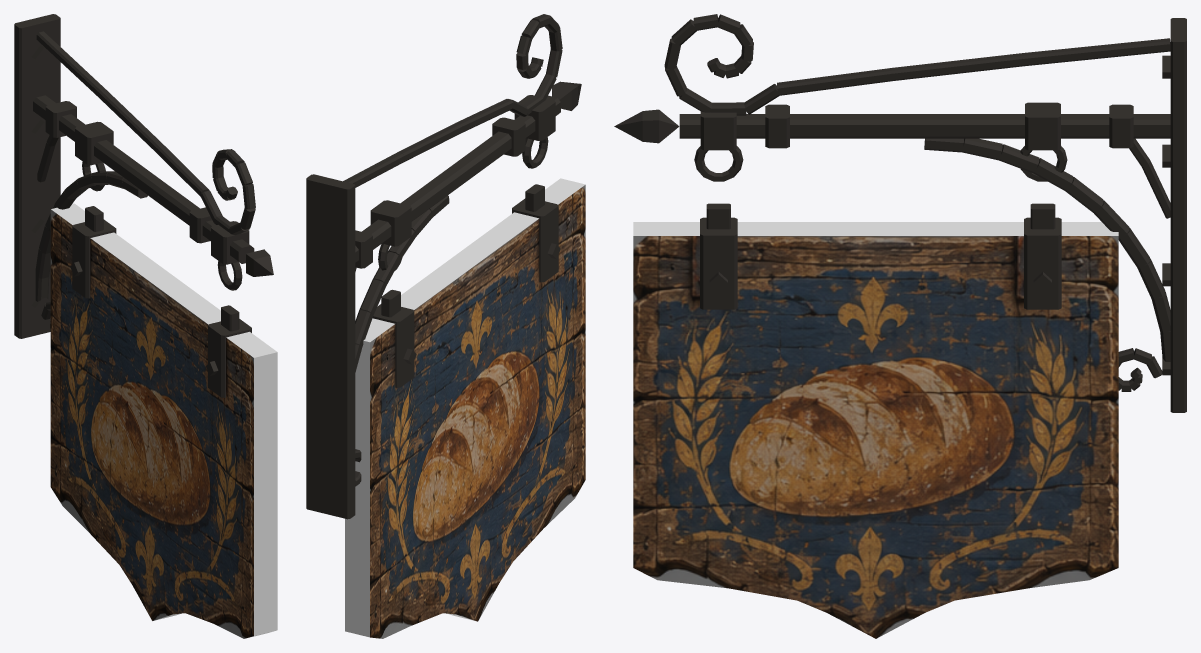
File: SilverbrookPropShopSign.fbx
3 renders of one model, left to right at view 1: azimuth 30°, elevation 25°; view 2: azimuth 150°, elevation 25°; view 3: azimuth 270°, elevation 25°, orthographic. The views are drawn at different scales.
Parts seen in each view (by area): view 1: SM_SBShopSign_BoardFace, SM_SBShopSign_Iron, SM_SBShopSign_Board; view 2: SM_SBShopSign_BoardFace, SM_SBShopSign_Iron, SM_SBShopSign_Board; view 3: SM_SBShopSign_BoardFace, SM_SBShopSign_Iron, SM_SBShopSign_Board.
Boxes of the visible parts, x1,y1,x2,y2 form: SM_SBShopSign_BoardFace: (50,209,253,638); SM_SBShopSign_Iron: (14,14,273,397); SM_SBShopSign_Board: (51,203,277,637); SM_SBShopSign_BoardFace: (370,185,585,638); SM_SBShopSign_Iron: (306,14,581,519); SM_SBShopSign_Board: (345,178,585,637); SM_SBShopSign_BoardFace: (633,236,1118,638); SM_SBShopSign_Iron: (614,14,1186,412); SM_SBShopSign_Board: (633,222,1118,235).
Size of the model in its own units: 7 by 83.14 by 70.
3 materials, 1 textured.
